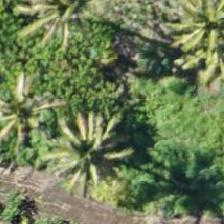coconut_tree: (50, 110, 140, 200), (0, 70, 64, 160), (17, 0, 107, 54), (170, 0, 223, 72)
